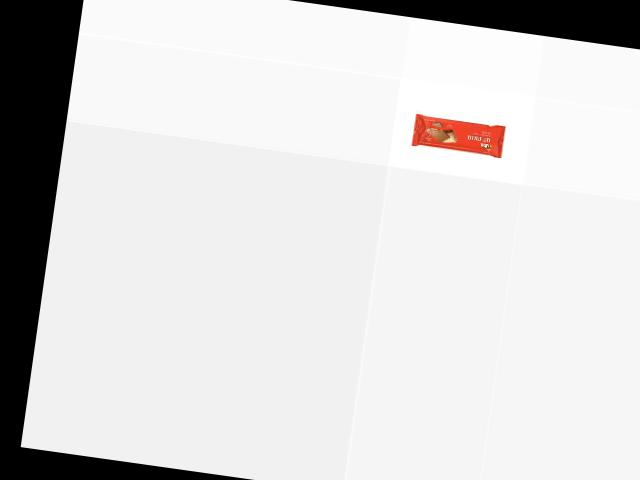chocolate: (412, 112, 509, 158)
